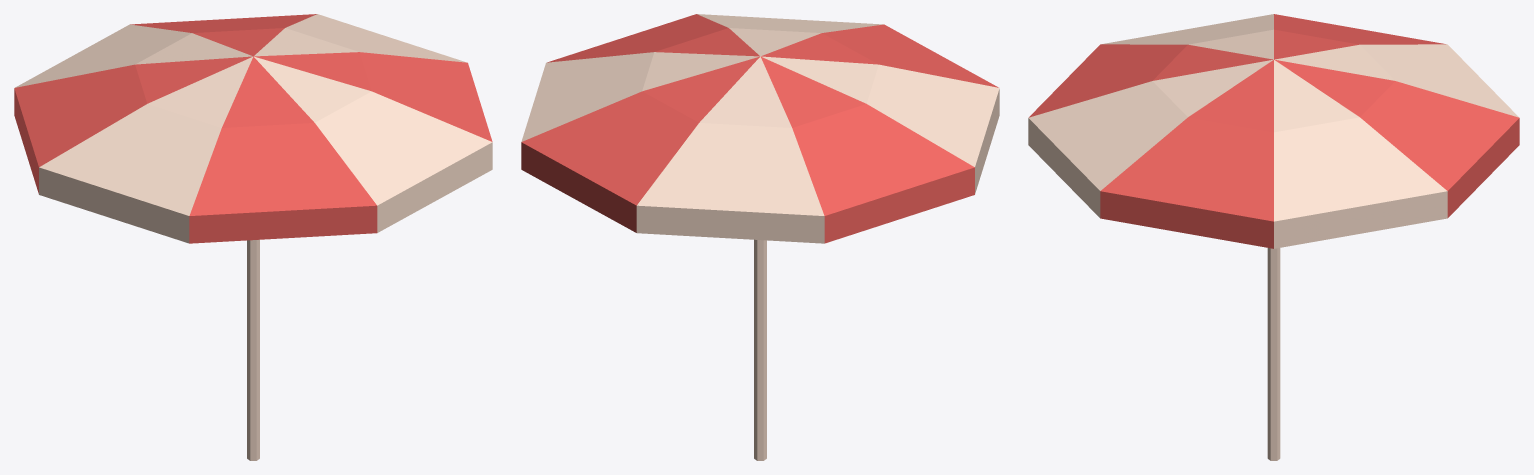
Rendered from zombra.fbx.
The picture shows the model from 3 angles, left to right: view 1: azimuth 30°, elevation 25°; view 2: azimuth 150°, elevation 25°; view 3: azimuth 270°, elevation 25°; orthographic projection.
Visible parts, largest first — view 1: umbrella; view 2: umbrella; view 3: umbrella.
Part boxes in pixels (x1,y1,x2,y2): umbrella: [14, 14, 492, 460]; umbrella: [521, 14, 999, 460]; umbrella: [1028, 14, 1519, 460].
Size of the model in its own units: 236 by 211 by 236.
